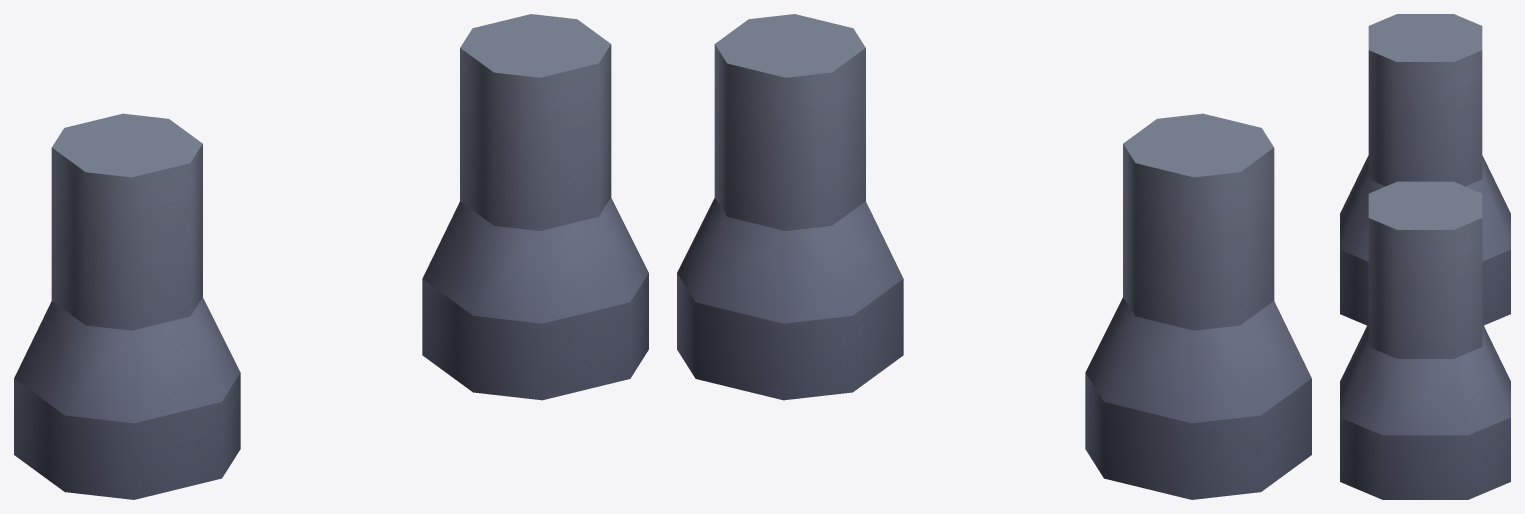
The model's file is kenney-marble-support-two-bottom.glb.
3 renders of one model, left to right at view 1: azimuth 30°, elevation 25°; view 2: azimuth 150°, elevation 25°; view 3: azimuth 270°, elevation 25°, orthographic. The views are drawn at different scales.
Visible parts, largest first — view 1: support-two-bottom; view 2: support-two-bottom; view 3: support-two-bottom.
Part boxes in pixels (left/top/right/bottom): support-two-bottom: left=14, top=14, right=648, bottom=499; support-two-bottom: left=677, top=14, right=1311, bottom=499; support-two-bottom: left=1340, top=14, right=1510, bottom=499.
Bounding box in the file's own units: 0.9969 × 0.5 × 0.3.
Materials: 1 (1 with a texture image).
